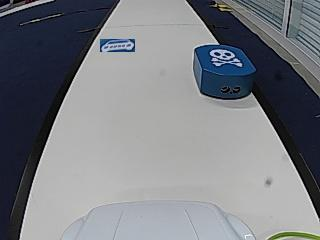danger: (209, 48, 241, 67)
